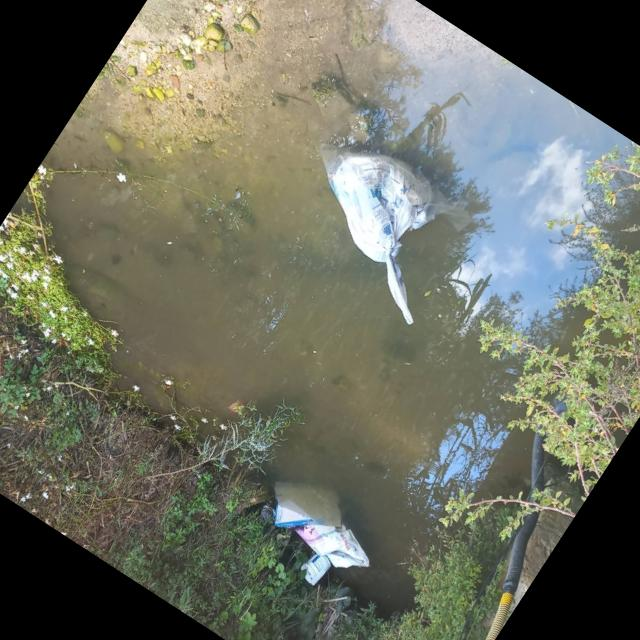Carton: (274, 481, 340, 529)
Other plastic: (483, 394, 567, 640), (300, 552, 331, 586)
Plastic bag - wrapper: (318, 143, 472, 326), (293, 522, 368, 568)
Unlabeled litter: (226, 399, 244, 414)
